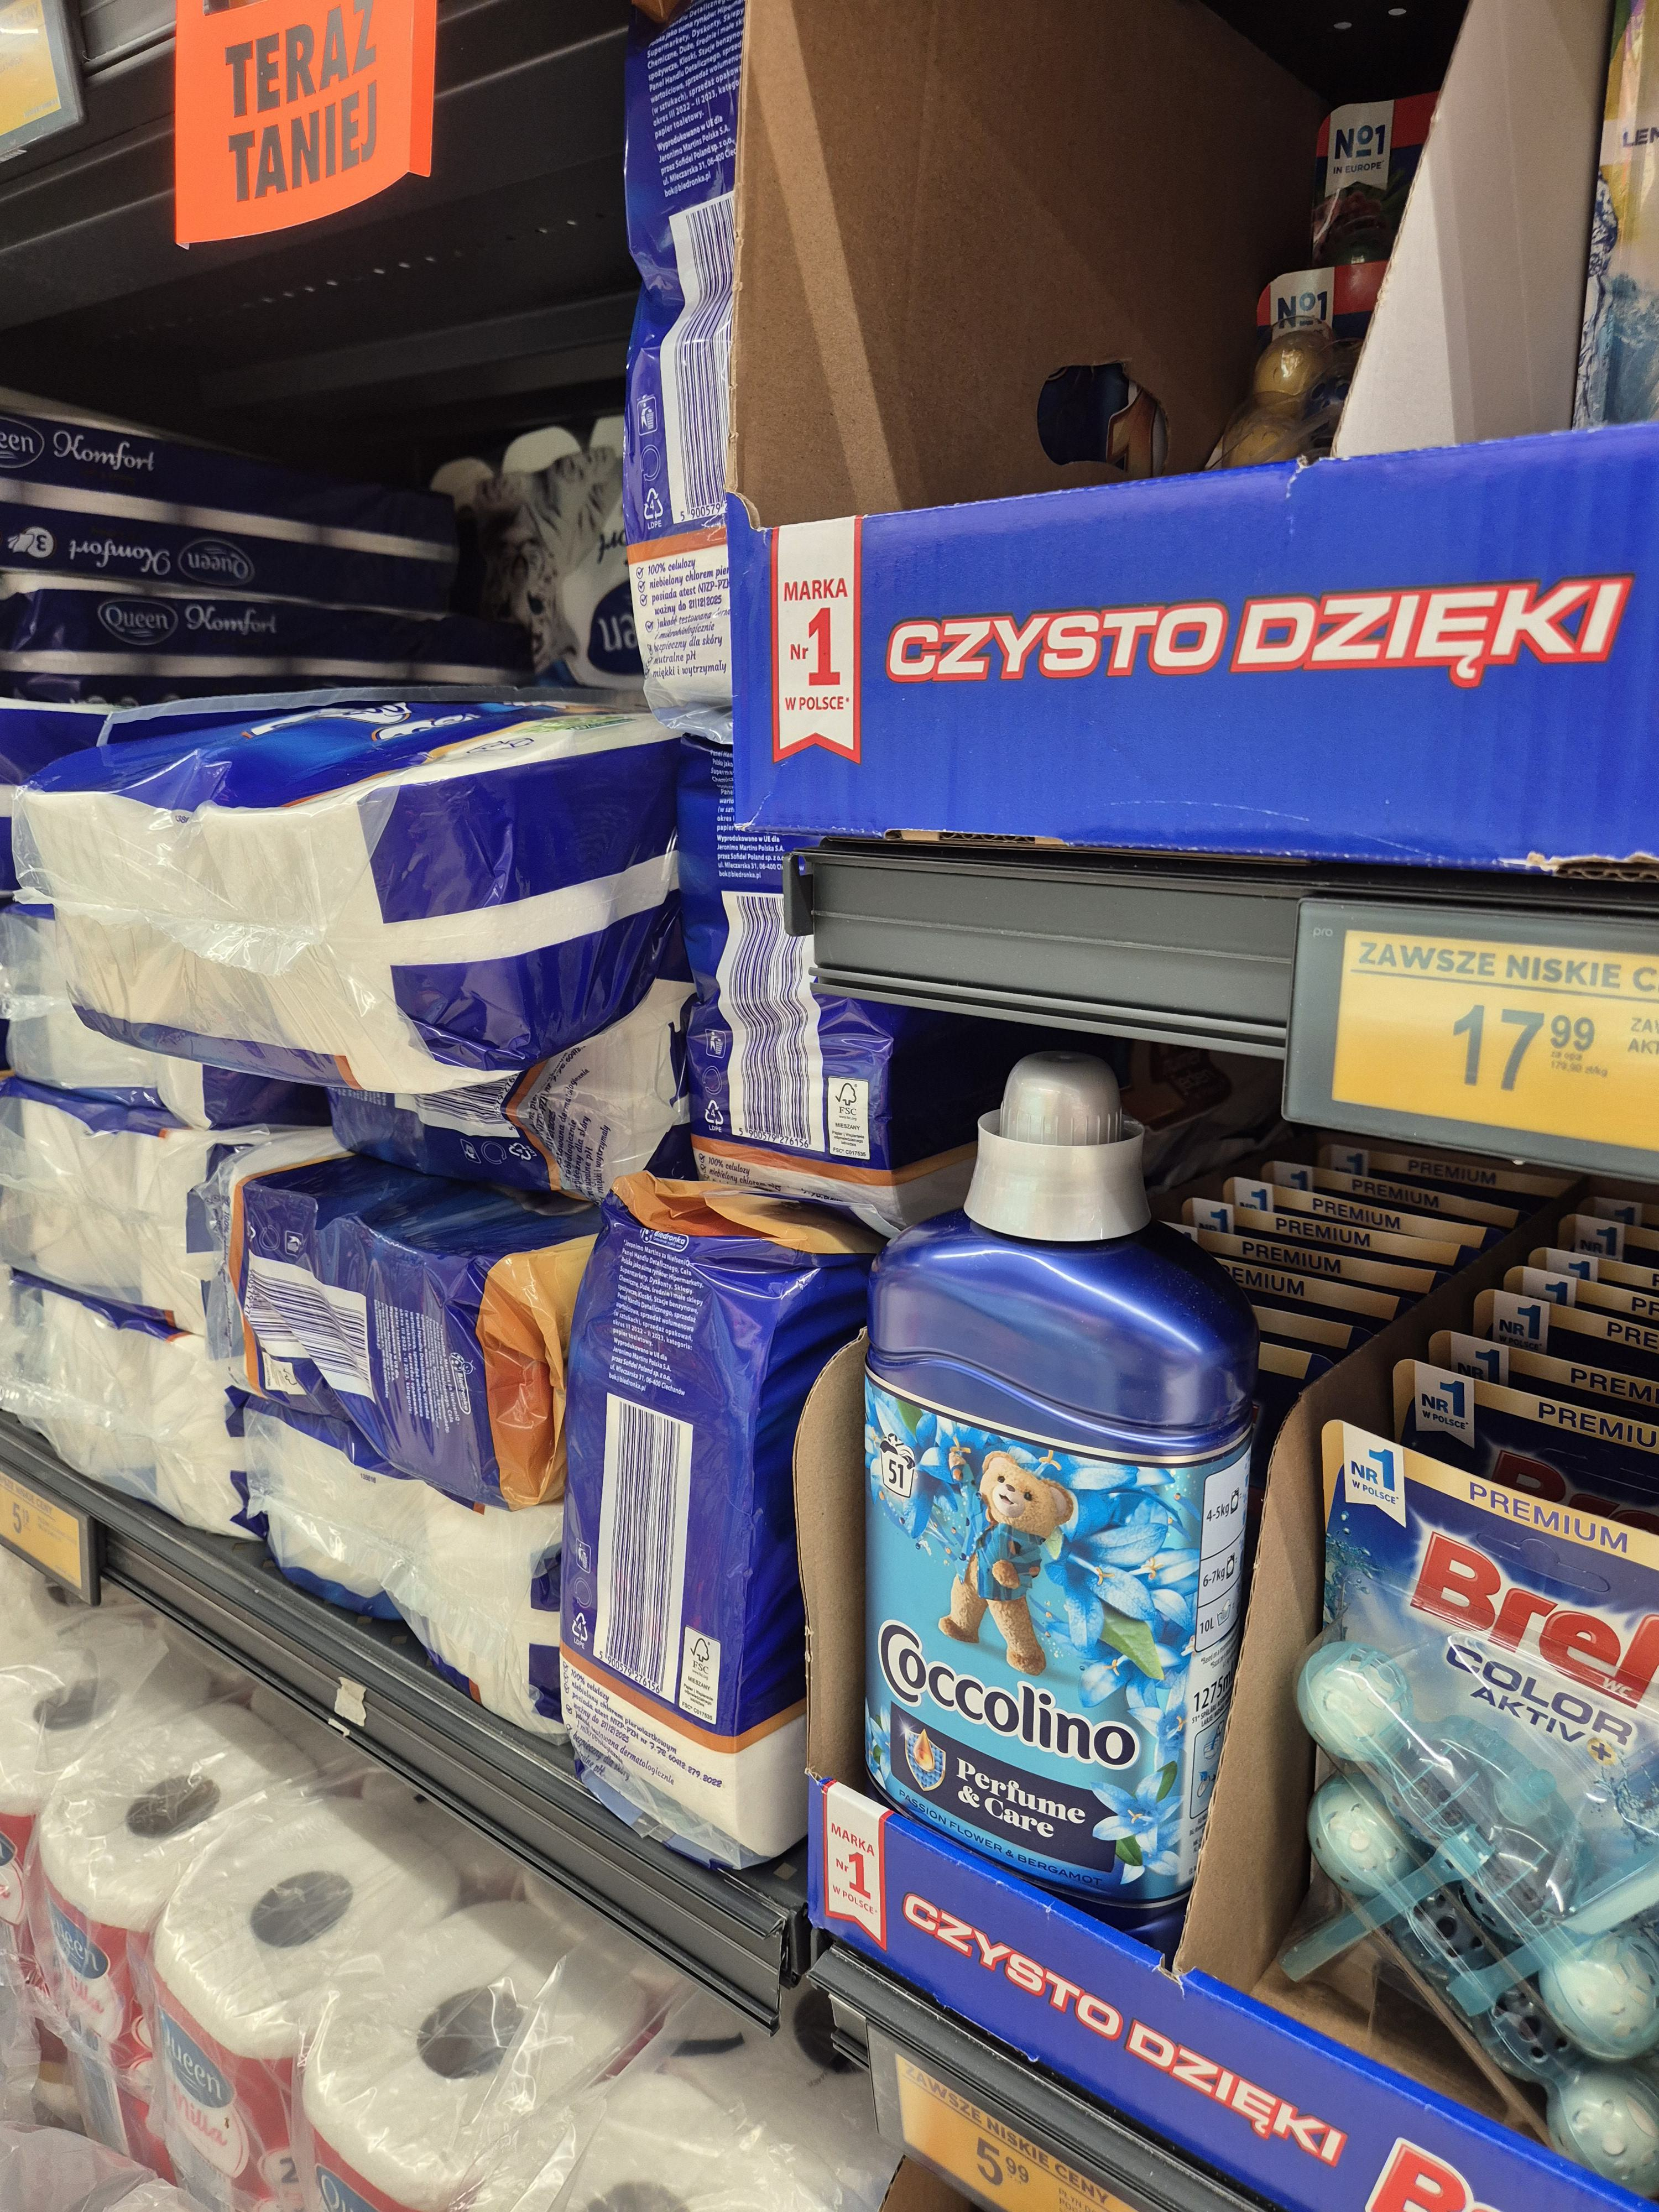cocolino: (871, 1043, 1262, 1993)
